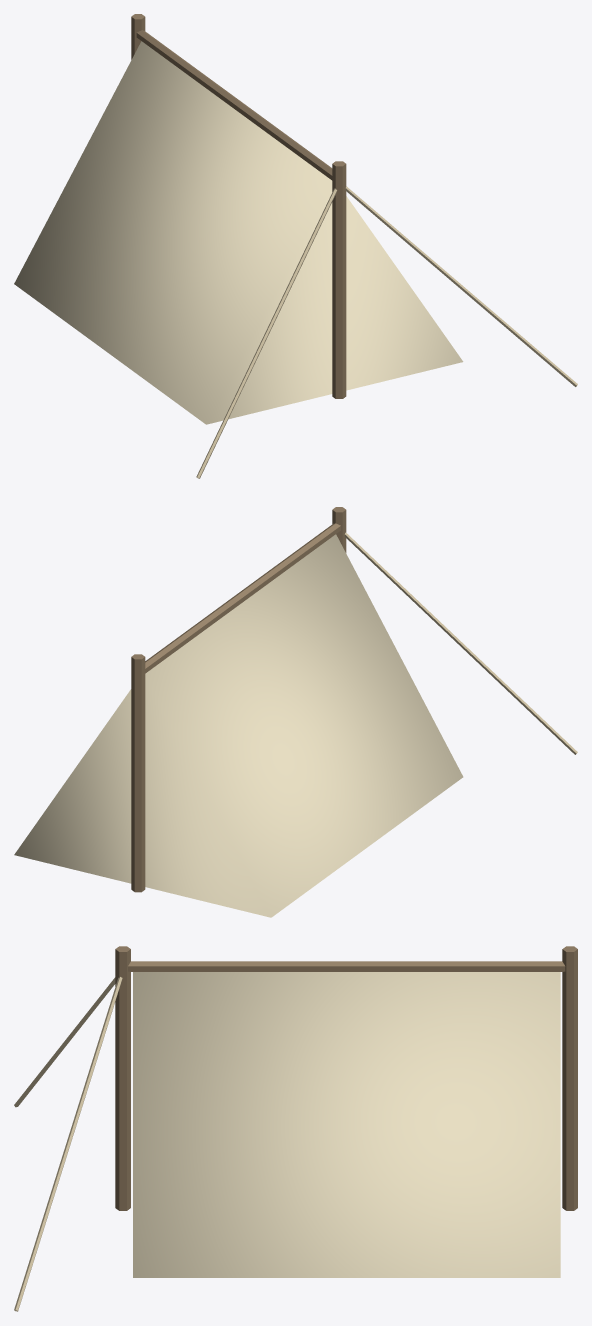
The model's file is tent.fbx.
3 views of the same model, one above another, from view 1: azimuth 30°, elevation 25°; view 2: azimuth 150°, elevation 25°; view 3: azimuth 270°, elevation 25° (orthographic). The views are drawn at different scales.
Visible parts, largest first — view 1: Tent; view 2: Tent; view 3: Tent.
Part boxes in pixels (x1,y1,x2,y2): Tent: (14,14,577,478); Tent: (14,507,577,917); Tent: (14,946,577,1311).
Bounding box in the file's own units: 252 × 148 × 290.
